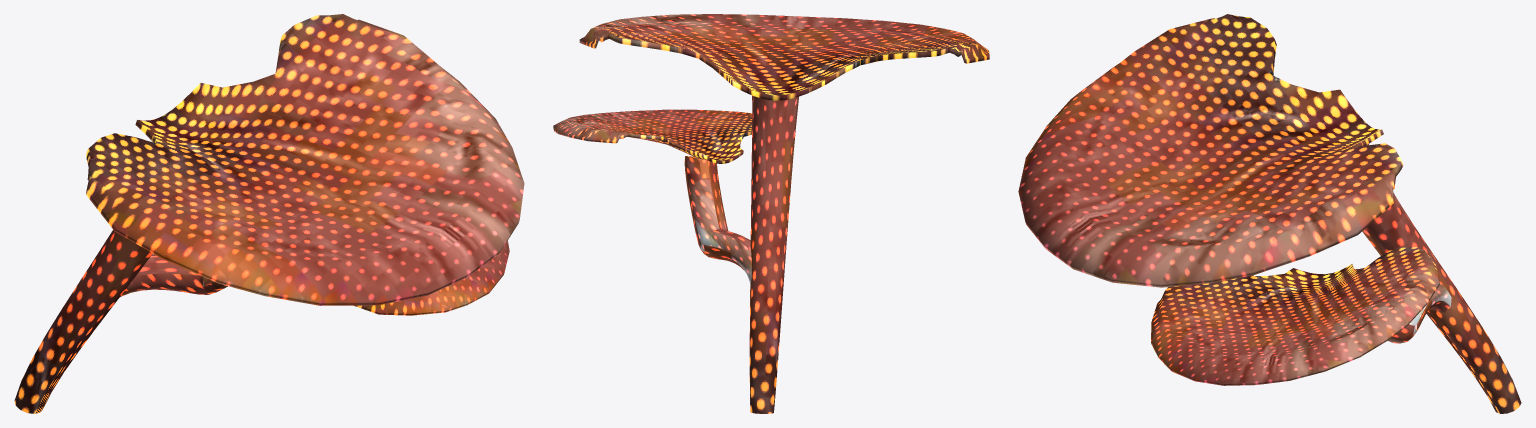
Rendered from reishi.glb.
The picture shows the model from 3 angles, left to right: view 1: azimuth 30°, elevation 25°; view 2: azimuth 150°, elevation 25°; view 3: azimuth 270°, elevation 25°; orthographic projection. The views are drawn at different scales.
Parts seen in each view (by area): view 1: Cube.001; view 2: Cube.001; view 3: Cube.001.
Part boxes in pixels (x1,y1,x2,y2): Cube.001: [14, 14, 524, 413]; Cube.001: [553, 14, 989, 413]; Cube.001: [1018, 14, 1521, 413].
Size of the model in its own units: 3.85 by 3.09 by 3.95.
Materials: 2 (2 with a texture image).
